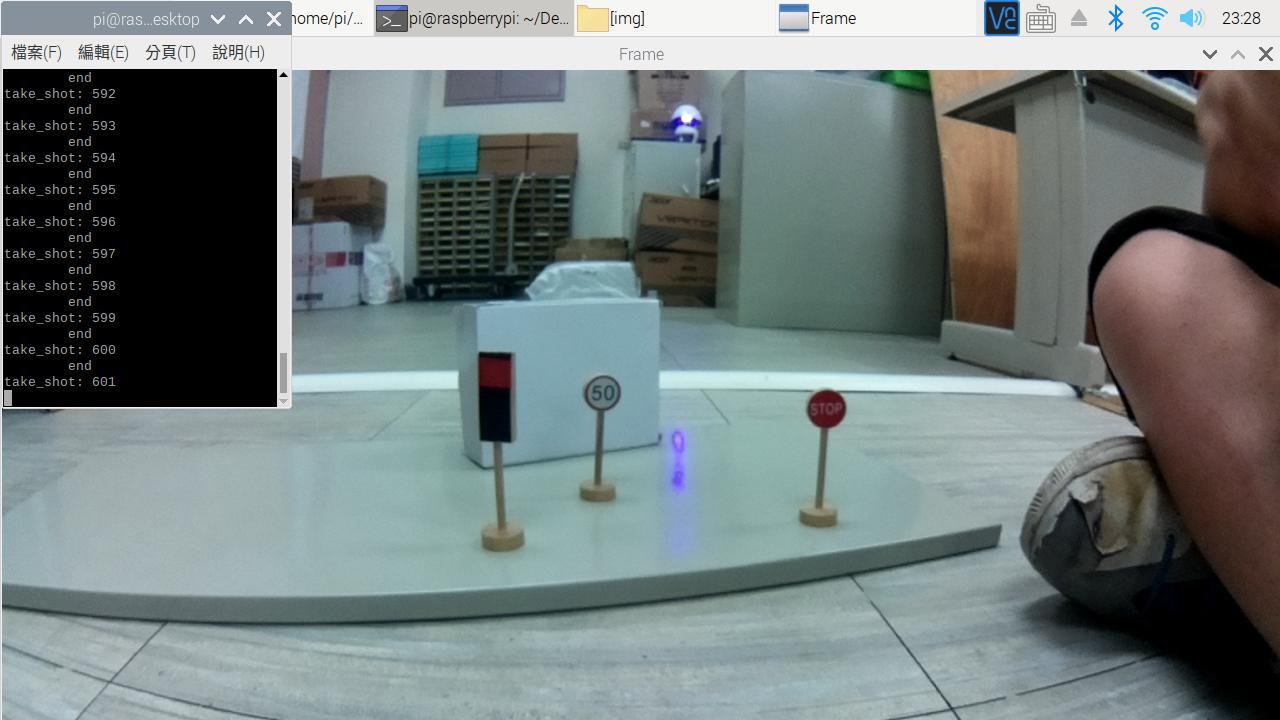Red: (470, 344, 521, 462)
Speed50: (576, 365, 633, 411)
Stop: (792, 385, 860, 455)
